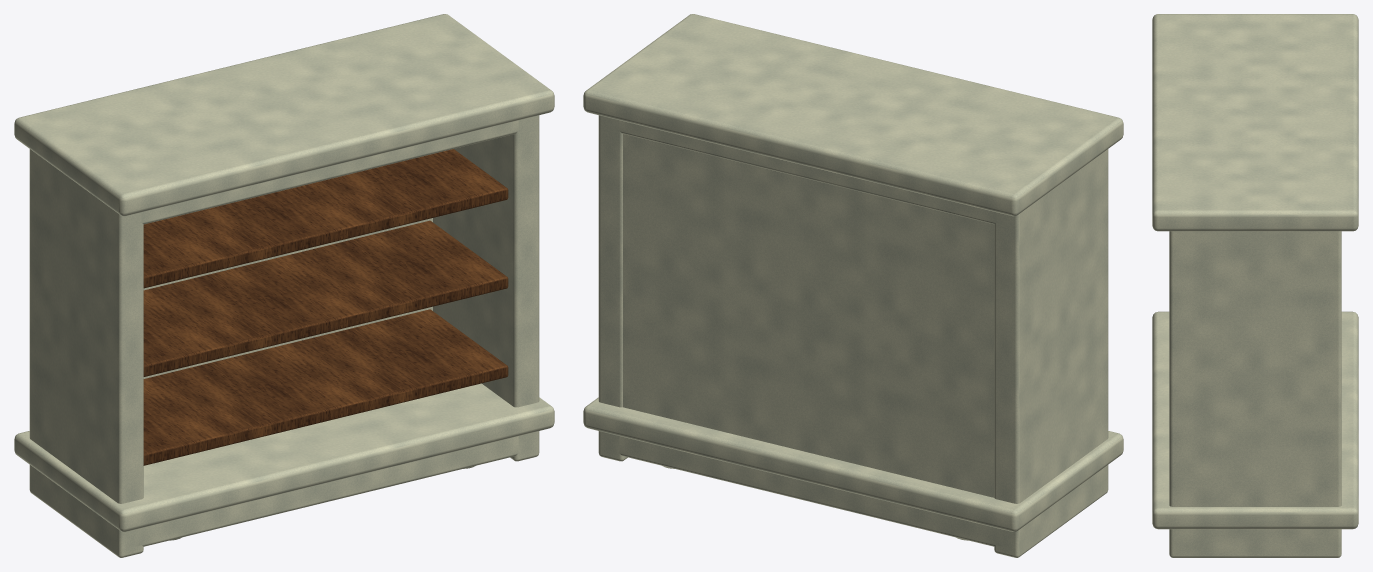
File: KitchenBody.fbx
The picture shows the model from 3 angles, left to right: view 1: azimuth 30°, elevation 25°; view 2: azimuth 150°, elevation 25°; view 3: azimuth 270°, elevation 25°; orthographic projection. The views are drawn at different scales.
Parts seen in each view (by area): view 1: KitchenBody_Enamel, KitchenBody_SmokedOak; view 2: KitchenBody_Enamel; view 3: KitchenBody_Enamel.
Part boxes in pixels (box(x1,y1,x2,y2)): KitchenBody_Enamel: box(14, 14, 554, 557); KitchenBody_SmokedOak: box(143, 149, 508, 465); KitchenBody_Enamel: box(583, 14, 1123, 557); KitchenBody_Enamel: box(1152, 14, 1358, 557).
Bounding box in the file's own units: 154 × 126 × 67.
